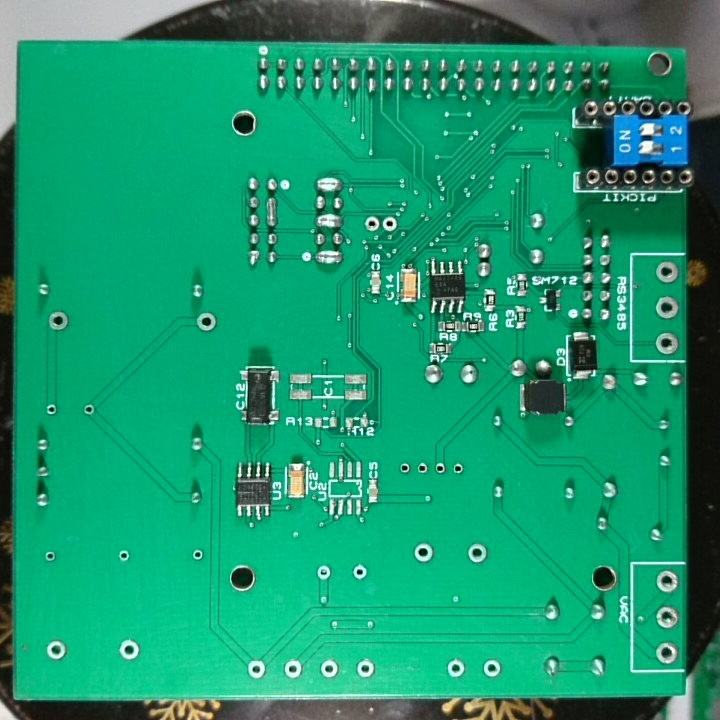F: (653, 260, 682, 287), (653, 294, 681, 321), (654, 604, 681, 632), (114, 637, 143, 663), (654, 568, 681, 595), (411, 540, 437, 568), (654, 640, 681, 666), (463, 540, 489, 566), (653, 331, 680, 356), (45, 309, 72, 334), (192, 311, 219, 335), (44, 638, 70, 662), (354, 655, 378, 680), (480, 656, 503, 680), (245, 658, 269, 681), (318, 657, 341, 680), (445, 656, 467, 680), (282, 658, 304, 680), (381, 212, 400, 236), (349, 562, 370, 583), (78, 400, 99, 420), (362, 213, 381, 235), (314, 563, 334, 582), (431, 458, 450, 478), (412, 460, 431, 479), (448, 458, 467, 477), (114, 546, 134, 564), (43, 400, 59, 420), (42, 548, 59, 566), (189, 546, 205, 564), (397, 459, 413, 477)
P: (314, 246, 345, 267), (262, 195, 281, 229), (314, 211, 345, 230), (313, 175, 345, 193)
